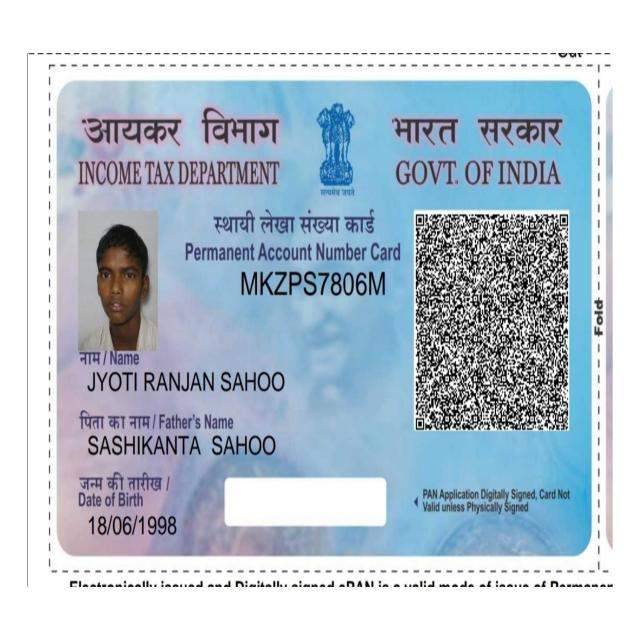pan_card: (58, 85, 587, 554)
